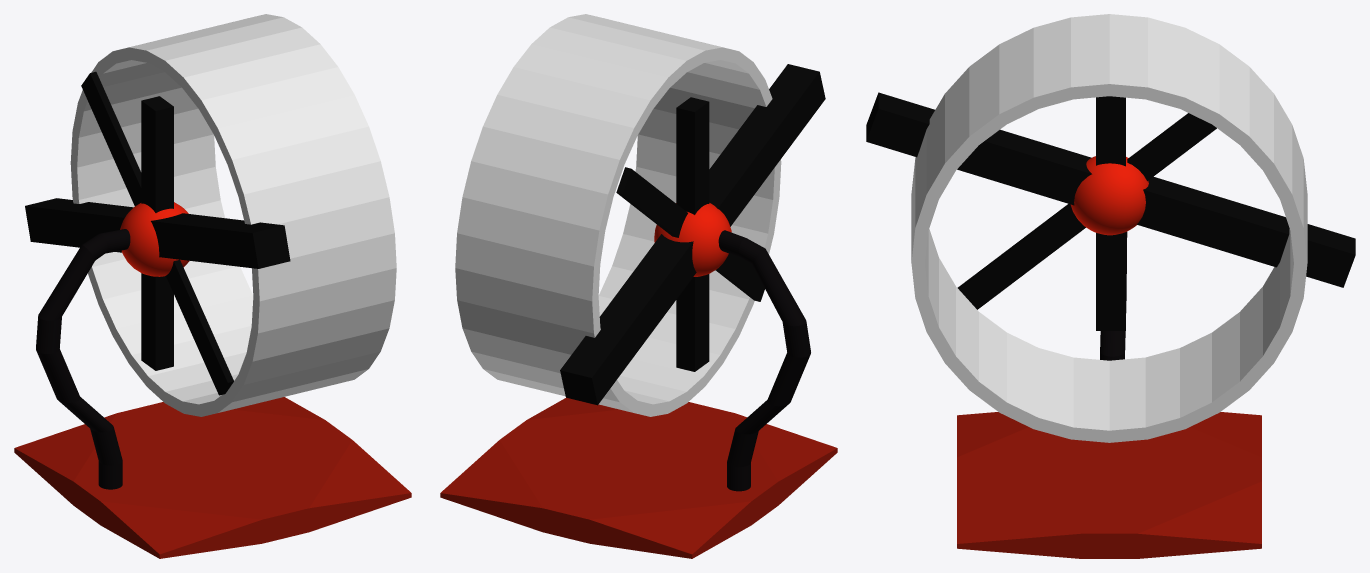
Rendered from ratWheel.glb.
3 views of the same model, side by side, from view 1: azimuth 30°, elevation 25°; view 2: azimuth 150°, elevation 25°; view 3: azimuth 270°, elevation 25° (orthographic). The views are drawn at different scales.
Parts seen in each view (by area): view 1: wheel, Cube, Stick3, Cylinder, Stick1, Stick2, Sphere; view 2: wheel, Cube, Stick3, Cylinder, Stick1, Stick2, Sphere; view 3: wheel, Cube, Stick3, Stick2, Stick1, Sphere, Cylinder.
Part boxes in pixels (x1,y1,x2,y2): wheel: [70, 14, 396, 416]; Cube: [14, 397, 411, 558]; Stick3: [25, 198, 290, 268]; Cylinder: [36, 229, 130, 489]; Stick1: [141, 96, 173, 370]; Stick2: [81, 71, 233, 395]; Sphere: [120, 202, 189, 276]; wheel: [455, 14, 781, 416]; Cube: [440, 397, 837, 558]; Stick3: [560, 64, 825, 405]; Cylinder: [718, 230, 810, 491]; Stick1: [676, 97, 709, 371]; Stick2: [616, 167, 764, 301]; Sphere: [654, 203, 731, 276]; wheel: [911, 14, 1307, 442]; Cube: [957, 412, 1261, 558]; Stick3: [866, 92, 1355, 287]; Stick2: [957, 113, 1216, 309]; Stick1: [1096, 96, 1125, 330]; Sphere: [1070, 156, 1148, 235]; Cylinder: [1100, 232, 1127, 360].
Bounding box in the file's own units: 2.88 × 4 × 3.89.
